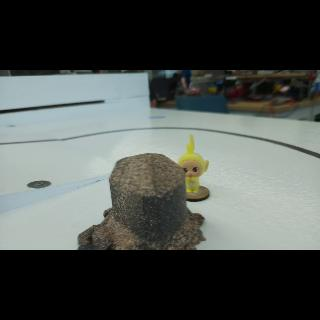teletubby: (178, 135, 209, 193)
